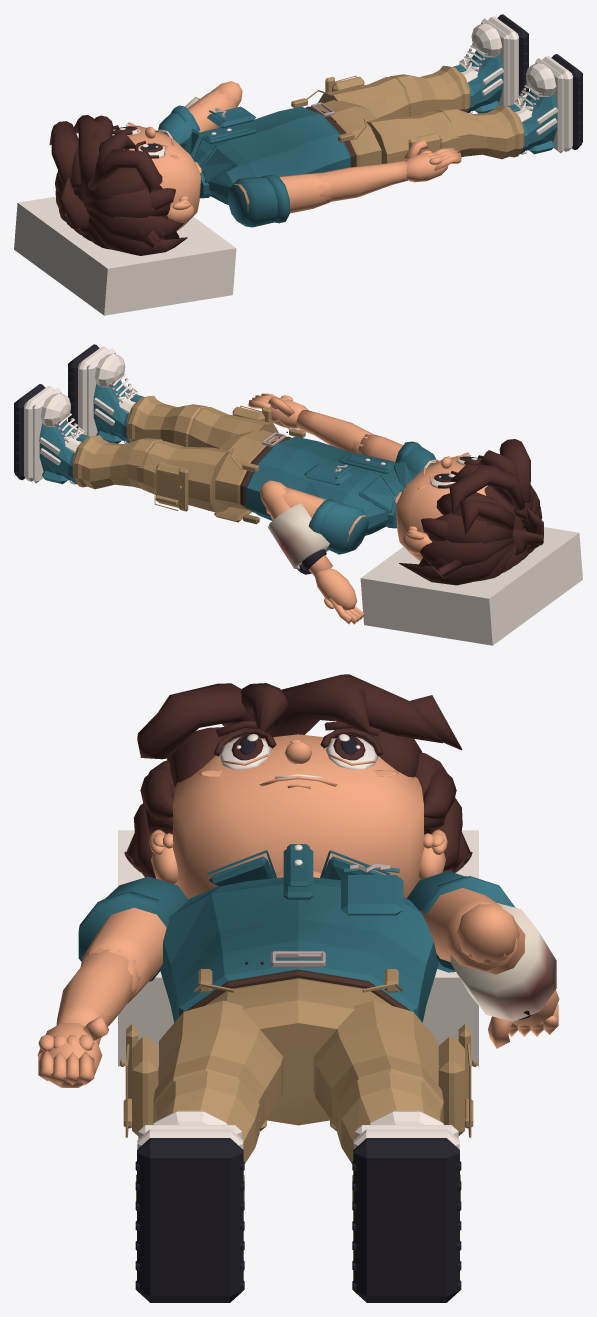
File: npc.shelter-survivor.lying.glb
3 views of the same model, one above another, from view 1: azimuth 30°, elevation 25°; view 2: azimuth 150°, elevation 25°; view 3: azimuth 270°, elevation 25° (orthographic). The views are drawn at different scales.
Visible parts, largest first — view 1: head, restCushion, torso, footR, footL, armR, shinR, legR, hip, shinL, legL, foreArmR (+3 smaller); view 2: head, restCushion, torso, footL, footR, legL, hip, foreArmL, shinL, armL, shinR, legR (+4 smaller); view 3: head, torso, footL, footR, hip, legL, legR, foreArmL, restCushion, armR, armL, foreArmR (+4 smaller).
Part boxes in pixels (bbox=[...]): head: bbox=[49, 115, 201, 255]; restCushion: bbox=[14, 196, 236, 315]; torso: bbox=[179, 106, 350, 204]; footR: bbox=[507, 54, 582, 154]; footL: bbox=[453, 14, 528, 113]; armR: bbox=[228, 172, 331, 227]; shinR: bbox=[434, 105, 524, 159]; legR: bbox=[366, 111, 459, 181]; hip: bbox=[291, 90, 381, 167]; shinL: bbox=[389, 65, 470, 116]; legL: bbox=[318, 75, 408, 118]; foreArmR: bbox=[318, 160, 408, 201]; head: bbox=[395, 439, 543, 585]; restCushion: bbox=[360, 527, 582, 645]; torso: bbox=[246, 436, 417, 535]; footL: bbox=[14, 384, 89, 484]; footR: bbox=[68, 344, 143, 443]; legL: bbox=[137, 441, 230, 512]; hip: bbox=[214, 420, 305, 524]; foreArmL: bbox=[260, 480, 332, 576]; shinL: bbox=[72, 435, 162, 489]; armL: bbox=[266, 487, 368, 554]; shinR: bbox=[126, 395, 207, 446]; legR: bbox=[188, 405, 278, 448]; head: bbox=[124, 674, 472, 898]; torso: bbox=[160, 844, 438, 1022]; footL: bbox=[352, 1110, 461, 1302]; footR: bbox=[135, 1110, 244, 1302]; hip: bbox=[185, 951, 411, 1131]; legL: bbox=[313, 1000, 477, 1137]; legR: bbox=[119, 1000, 283, 1137]; foreArmL: bbox=[450, 903, 556, 1021]; restCushion: bbox=[118, 830, 478, 1066]; armR: bbox=[78, 876, 188, 1003]; armL: bbox=[407, 871, 517, 972]; foreArmR: bbox=[56, 948, 141, 1045].
Size of the model in its own units: 1.81 by 0.5448 by 0.8363.
